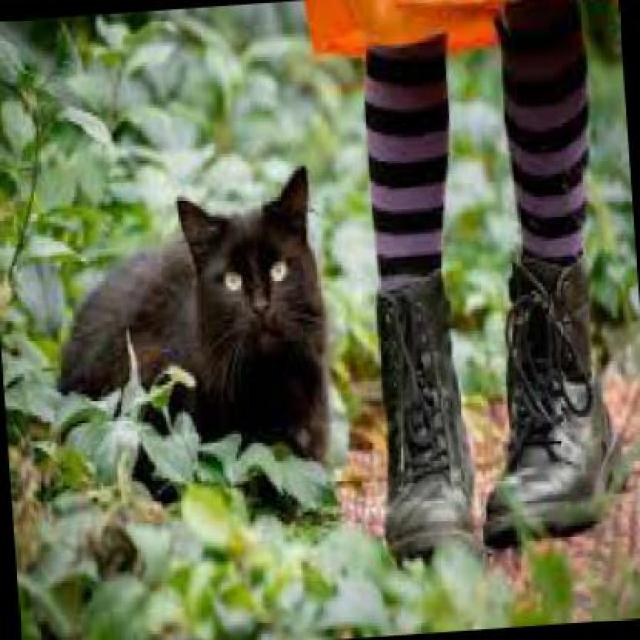animals: (42, 154, 346, 471)
